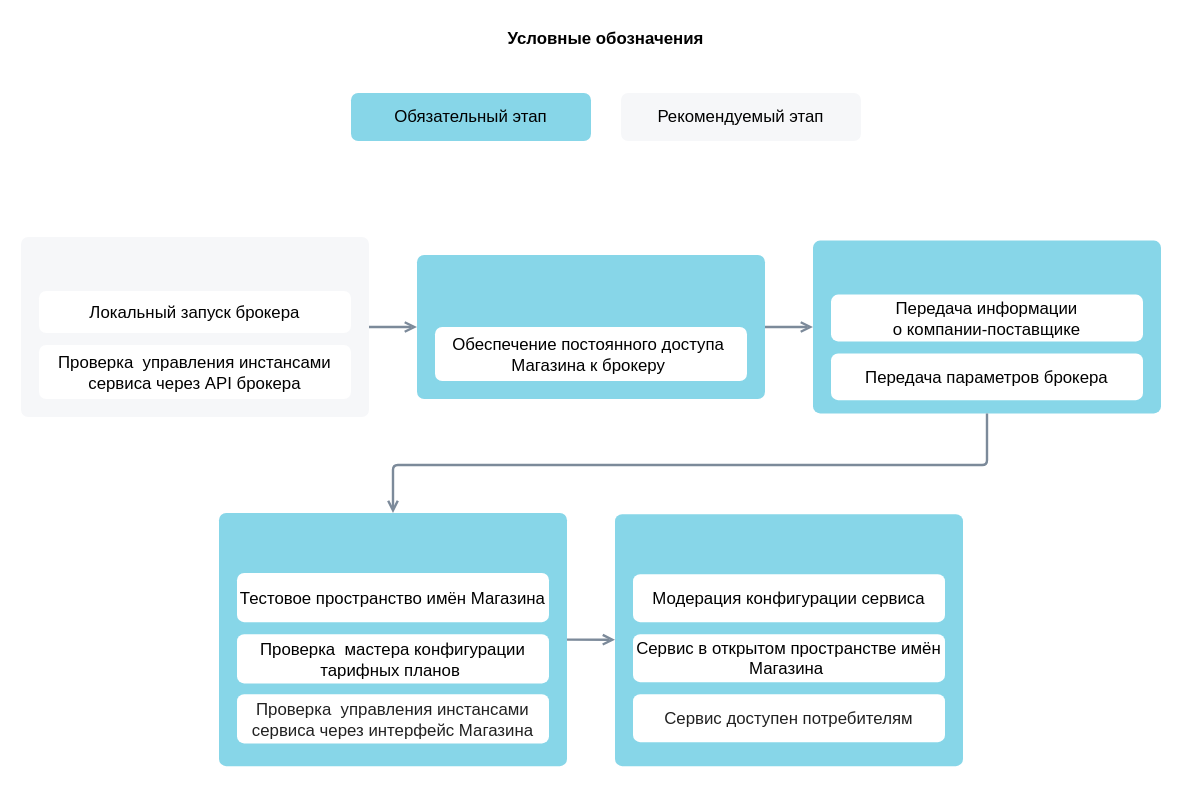
Image size: 1181x786. Some labels were removed from this diagram. The box of each missing label's shape, as (x1, y1, x2, y2) in pixels:
Локальное тестирование брокера: (20, 236, 368, 416)
Публикация сервиса: (614, 514, 962, 766)
Разворачивание брокера на окружении: (416, 254, 764, 398)
Регистрация брокера в Магазине: (812, 240, 1160, 413)
Тестирование сервиса в Магазине: (218, 512, 566, 766)
